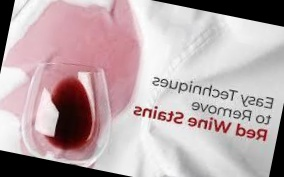wine: (3, 0, 152, 110), (0, 72, 33, 124)
